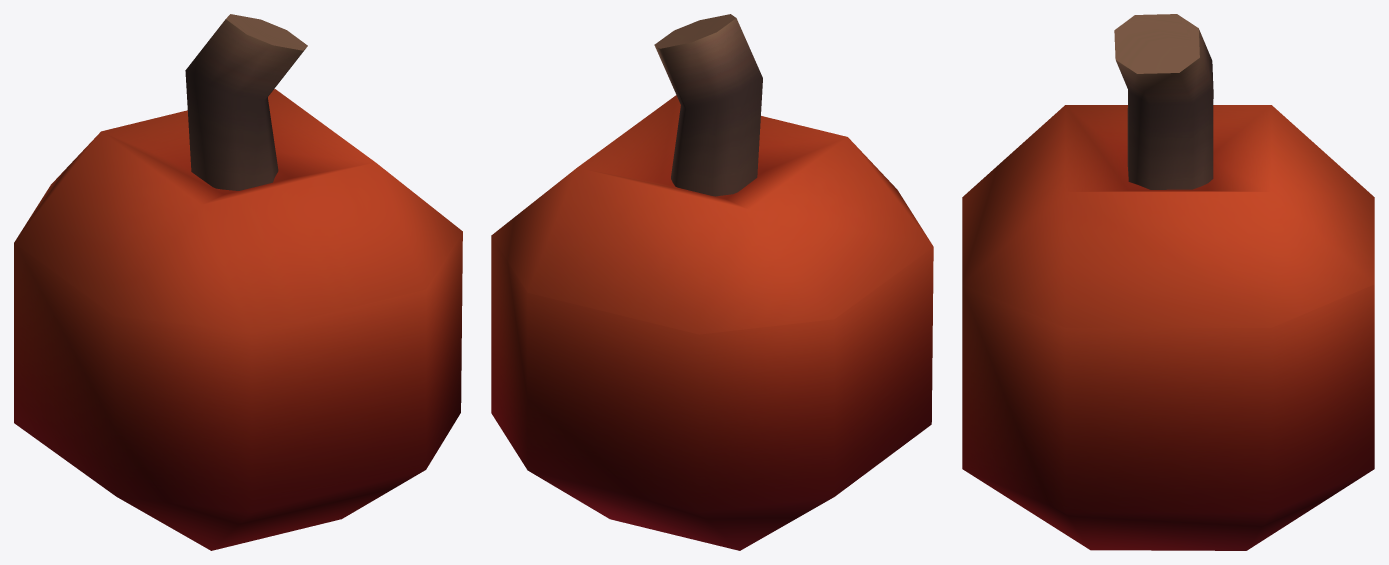
File: apple.fbx
3 renders of one model, left to right at view 1: azimuth 30°, elevation 25°; view 2: azimuth 150°, elevation 25°; view 3: azimuth 270°, elevation 25°, orthographic. The views are drawn at different scales.
Parts seen in each view (by area): view 1: apple; view 2: apple; view 3: apple.
Boxes of the visible parts, x1=… form: apple: x1=14, y1=14, x2=462, y2=550; apple: x1=491, y1=14, x2=933, y2=550; apple: x1=962, y1=14, x2=1374, y2=550.
Size of the model in its own units: 17.18 by 22.99 by 17.18.
